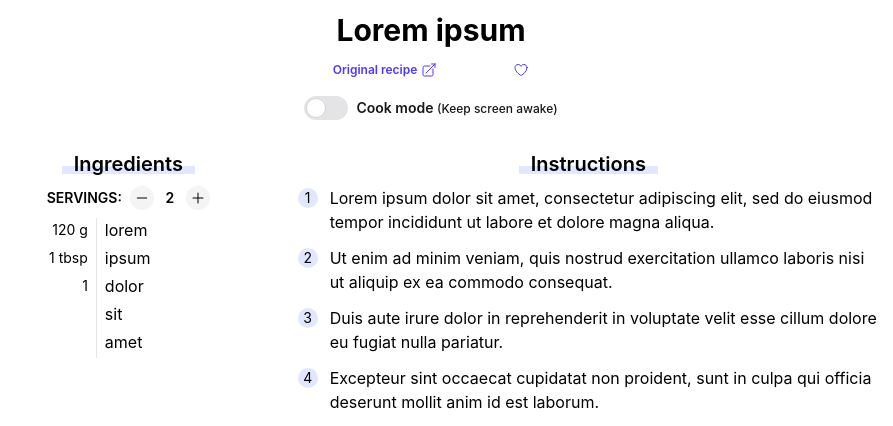
Test: Recipe › items in English language › displays updated amount of ingredients when servings are changed
Check: the field labelled "Servings:" holds "2", box left=162, top=188, right=178, bottom=208
Check: the row "120 g lorem" is shown, box left=16, top=218, right=240, bottom=246
Click the button named "Increment servings" at [198, 198], box left=186, top=186, right=210, bottom=210
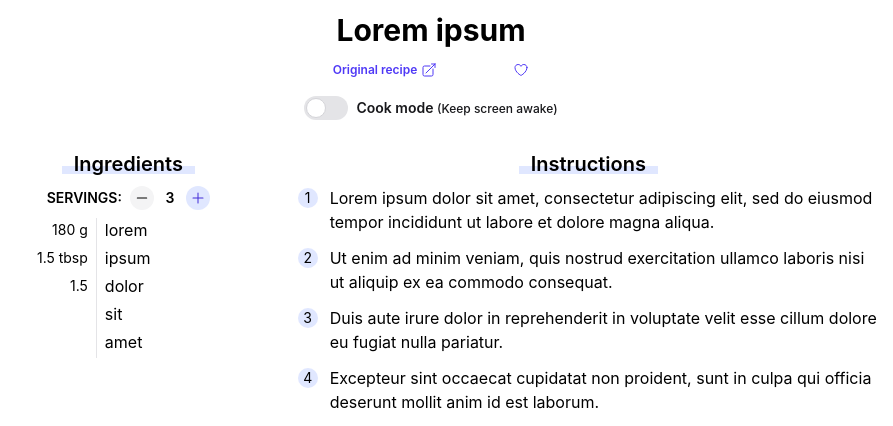
Check: the field labelled "Servings:" holds "3", box left=162, top=188, right=178, bottom=208
Check: the row "180 g lorem" is shown, box left=16, top=218, right=240, bottom=246
Click the button named "Decrement servings" at [142, 198], box left=130, top=186, right=154, bottom=210
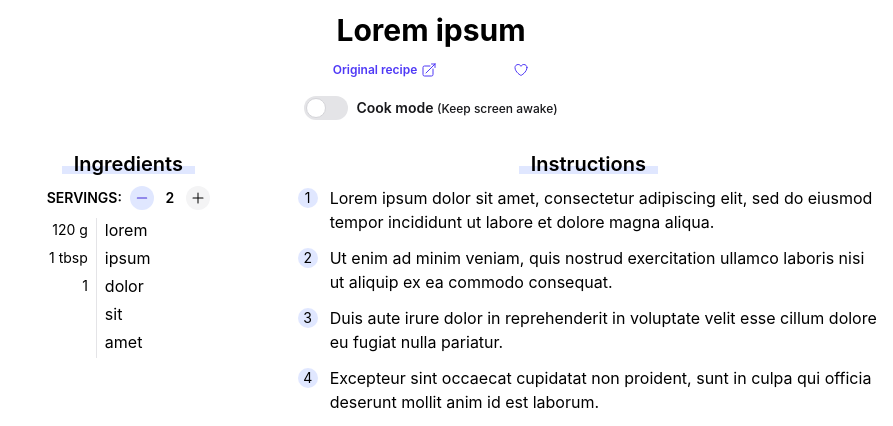
Click the button named "Decrement servings" at [142, 198], box left=130, top=186, right=154, bottom=210
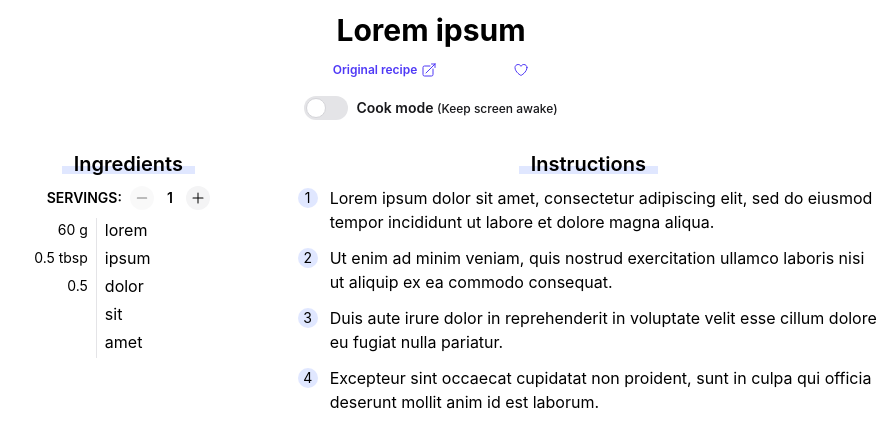
Check: the field labelled "Servings:" holds "1", box left=162, top=188, right=178, bottom=208
Check: the row "60 g lorem" is shown, box left=16, top=218, right=240, bottom=246
